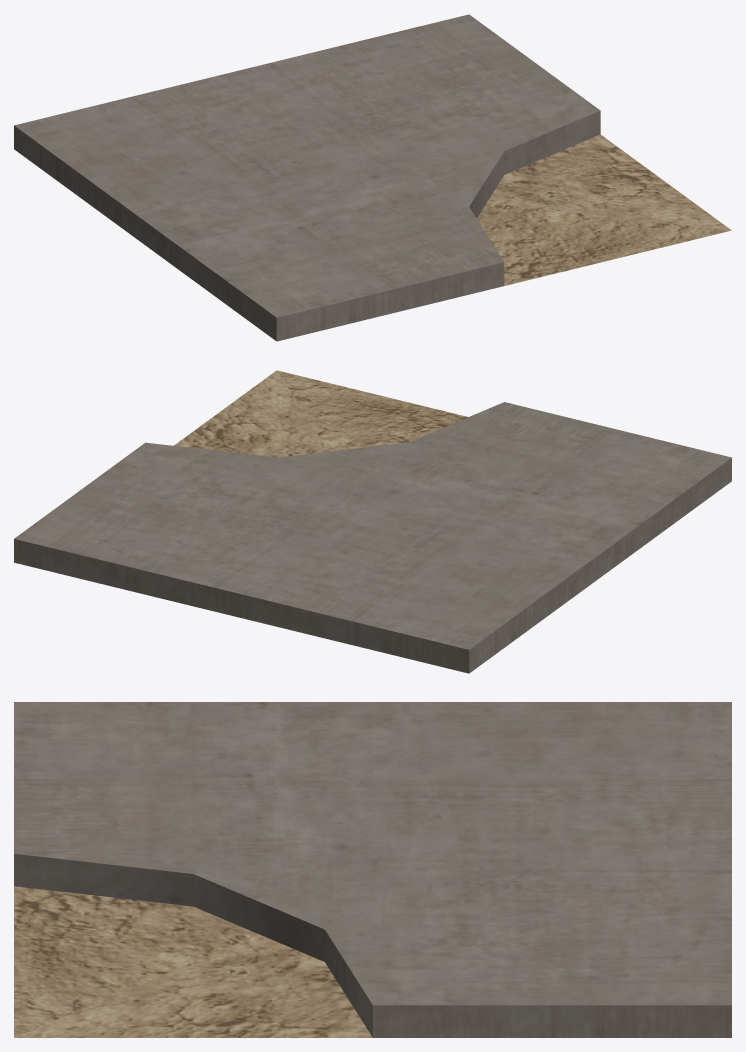
The model's file is roadDirt_cornerInner.fbx.
3 renders of one model, top to bottom at view 1: azimuth 30°, elevation 25°; view 2: azimuth 150°, elevation 25°; view 3: azimuth 270°, elevation 25°, orthographic. The views are drawn at different scales.
Parts seen in each view (by area): view 1: roadDirt_cornerInner; view 2: roadDirt_cornerInner; view 3: roadDirt_cornerInner.
Boxes of the visible parts, x1,y1,x2,y2 form: roadDirt_cornerInner: [14, 14, 731, 341]; roadDirt_cornerInner: [14, 370, 731, 673]; roadDirt_cornerInner: [14, 702, 731, 1037].
Bounding box in the file's own units: 10 × 0.5 × 10.
